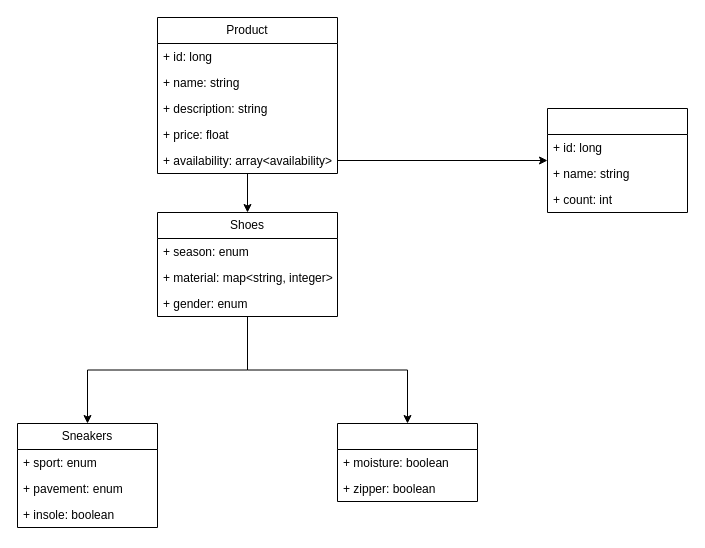
The diagram is 705 pixels wide and 548 high, and some of its shapes have lost their labels. The box of each missing label's shape, as (x1, y1, x2, y2) in pixels:
Availability: (546, 108, 688, 212)
Boots: (336, 422, 478, 502)
